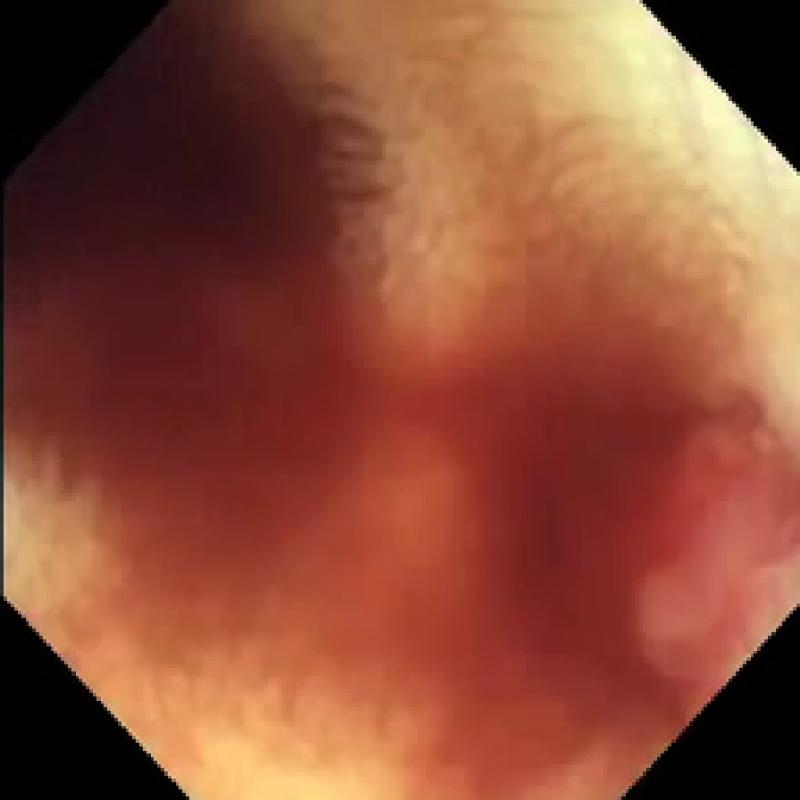bleeding: (18, 25, 743, 764)
